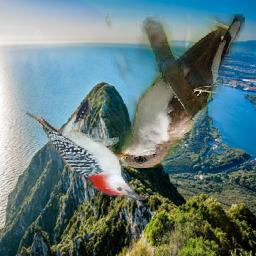Cuckoo: (105, 14, 245, 168)
Woodpecker: (26, 96, 146, 200)
